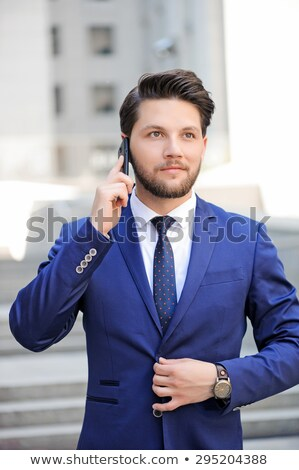phone: (102, 133, 137, 219)
talk: (95, 124, 202, 228)
